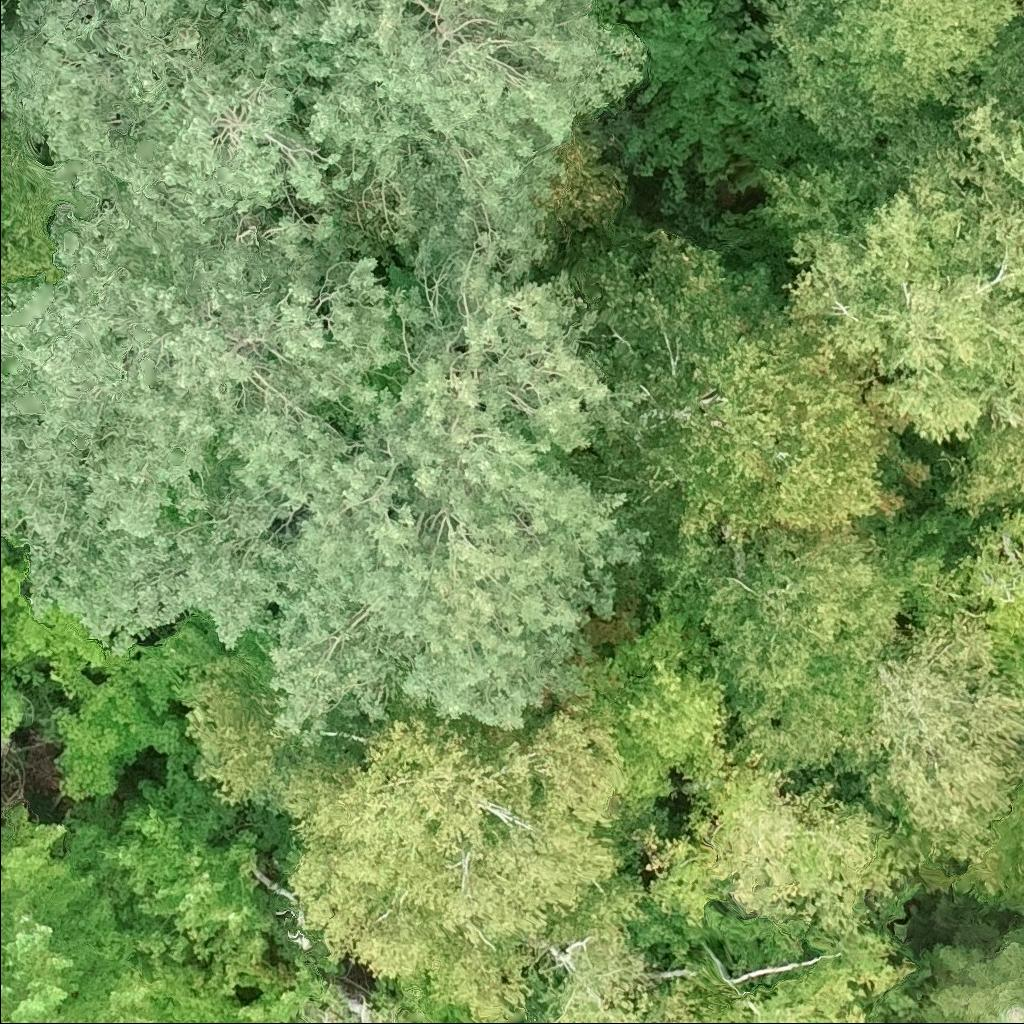crown: (0, 166, 436, 659), (260, 235, 655, 753), (175, 631, 632, 1023), (663, 537, 1023, 874), (230, 0, 647, 284), (570, 239, 908, 586), (761, 112, 1023, 514), (0, 0, 340, 251), (0, 559, 225, 799), (51, 785, 282, 1009), (0, 804, 232, 1023), (647, 755, 911, 944), (748, 0, 1023, 158), (580, 612, 731, 840), (875, 503, 1023, 707), (532, 875, 706, 1023), (703, 931, 924, 1023), (913, 936, 1023, 1023), (938, 92, 1023, 193), (109, 0, 242, 29), (226, 982, 308, 1023), (298, 1003, 389, 1023), (0, 674, 26, 740), (0, 0, 15, 38)
